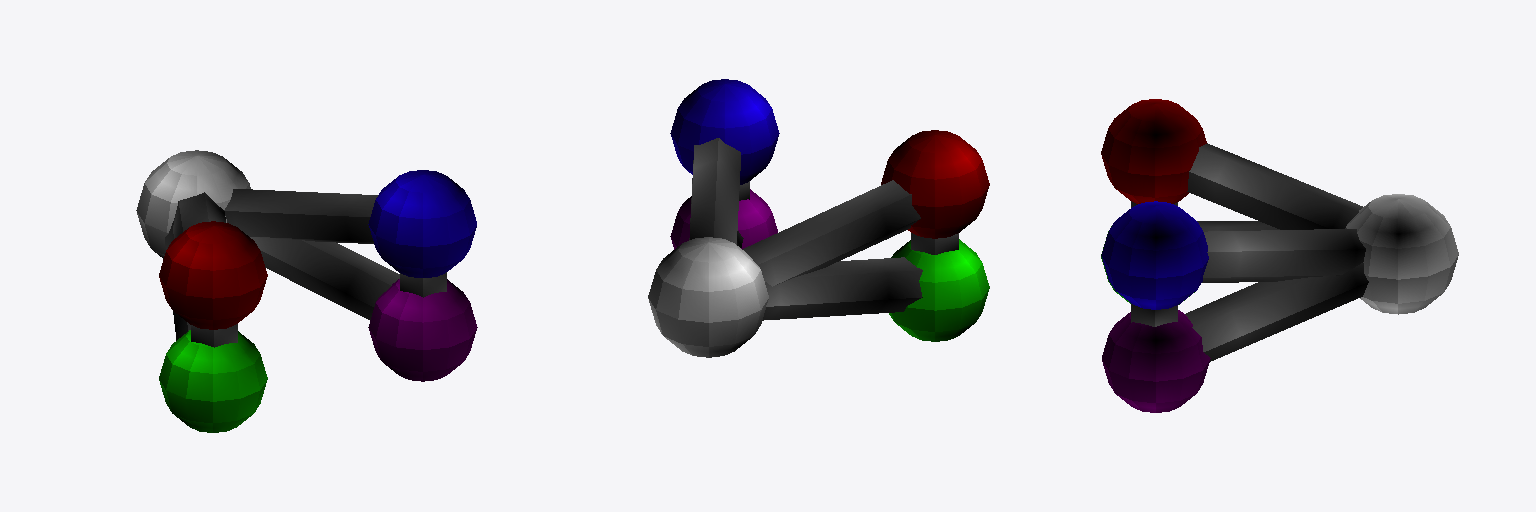
3 renders of one model, left to right at view 1: azimuth 30°, elevation 25°; view 2: azimuth 150°, elevation 25°; view 3: azimuth 270°, elevation 25°, orthographic.
Visible parts, largest first — view 1: Sphere002, Sphere003, Sphere005, Sphere004, Cylinder006, Cylinder005, Sphere001, Cylinder004, Cylinder002, Cylinder001; view 2: Sphere001, Cylinder004, Sphere002, Cylinder003, Sphere003, Sphere005, Cylinder006, Sphere004, Cylinder001; view 3: Sphere001, Sphere003, Sphere002, Cylinder005, Cylinder004, Sphere004, Cylinder006, Cylinder002, Cylinder003.
Part boxes in pixels (left/top/right/bottom): Sphere002: left=159, top=221, right=267, bottom=329; Sphere003: left=368, top=170, right=476, bottom=277; Sphere005: left=159, top=330, right=267, bottom=432; Sphere004: left=368, top=279, right=477, bottom=381; Cylinder006: left=224, top=189, right=377, bottom=243; Cylinder005: left=250, top=237, right=399, bottom=319; Sphere001: left=136, top=150, right=250, bottom=258; Cylinder004: left=173, top=192, right=225, bottom=238; Cylinder002: left=400, top=272, right=446, bottom=297; Cylinder001: left=191, top=324, right=237, bottom=347; Sphere001: left=648, top=237, right=768, bottom=357; Cylinder004: left=742, top=180, right=920, bottom=286; Sphere002: left=881, top=130, right=989, bottom=238; Cylinder003: left=762, top=257, right=922, bottom=320; Sphere003: left=670, top=79, right=779, bottom=184; Sphere005: left=889, top=239, right=989, bottom=341; Cylinder006: left=689, top=138, right=740, bottom=244; Sphere004: left=670, top=189, right=777, bottom=249; Cylinder001: left=911, top=233, right=958, bottom=254; Sphere001: left=1345, top=194, right=1458, bottom=314; Sphere003: left=1101, top=201, right=1208, bottom=309; Sphere002: left=1101, top=99, right=1206, bottom=203; Cylinder005: left=1185, top=263, right=1368, bottom=361; Cylinder004: left=1187, top=143, right=1362, bottom=229; Sphere004: left=1102, top=310, right=1210, bottom=412; Cylinder006: left=1202, top=229, right=1365, bottom=282; Cylinder002: left=1131, top=304, right=1177, bottom=326; Cylinder003: left=1197, top=221, right=1279, bottom=231.
Size of the model in its own units: 28.99 by 18.38 by 29.54.
Materials: 6 (6 with a texture image).